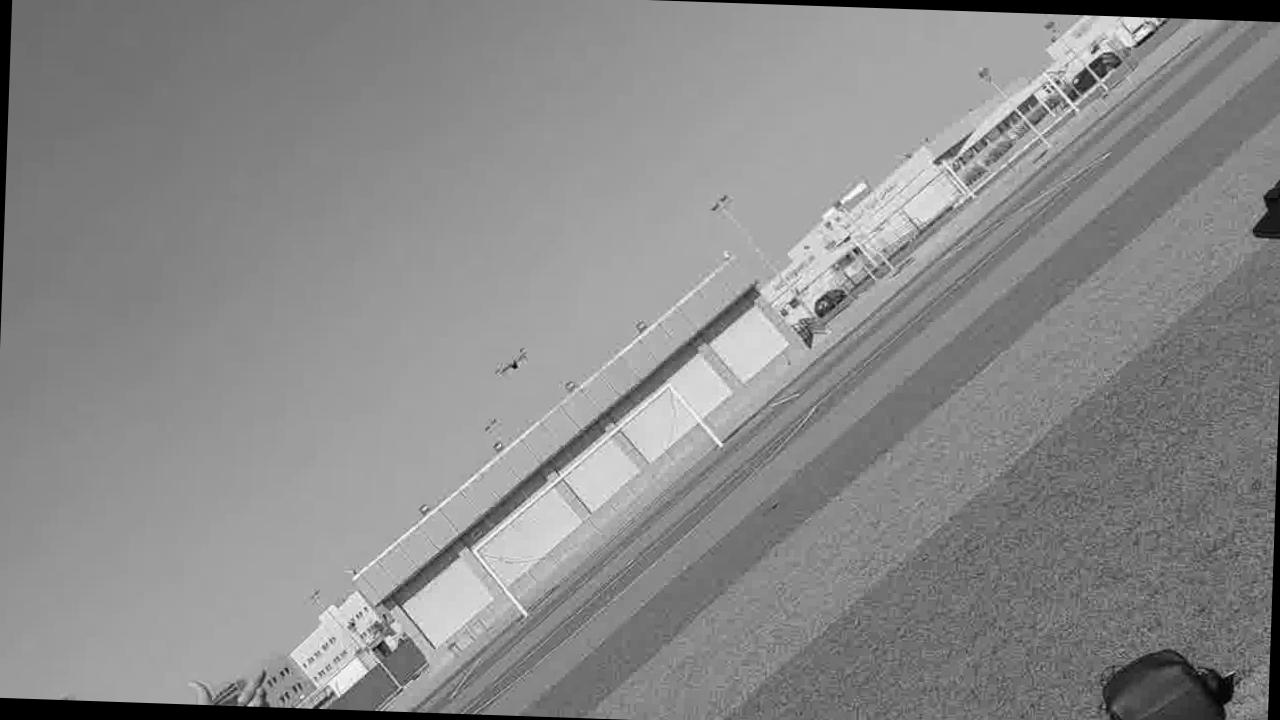drone: (490, 339, 532, 397)
